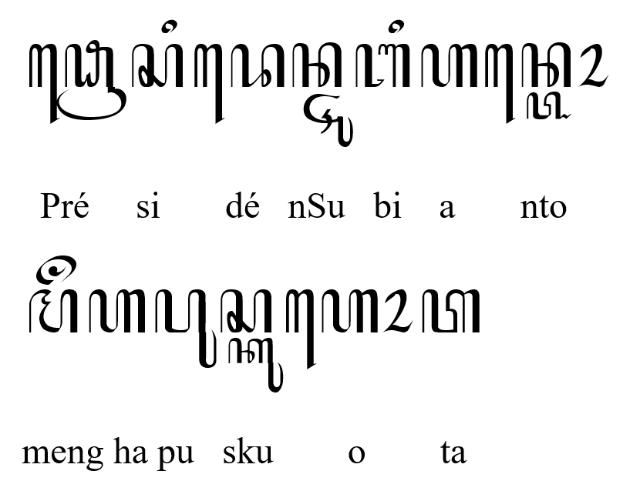Pr: (56, 40, 128, 120)
_Tu: (303, 93, 353, 147)
_t: (526, 90, 572, 120)
b: (354, 42, 412, 88)
d: (230, 43, 286, 88)
e1: (484, 43, 516, 125), (284, 289, 316, 371), (28, 43, 60, 124), (193, 43, 224, 125)
eng: (35, 255, 77, 285)
h: (420, 42, 478, 88), (88, 288, 146, 334), (321, 288, 379, 334)
i: (160, 18, 178, 34), (388, 18, 404, 34)
ku: (228, 338, 284, 394)
m: (28, 288, 78, 334)
n: (520, 40, 572, 88), (292, 42, 342, 88)
o: (578, 42, 610, 88), (382, 290, 414, 334)
pu: (154, 289, 218, 369)
s: (131, 42, 183, 88), (220, 288, 272, 334)
t: (420, 290, 480, 334)
